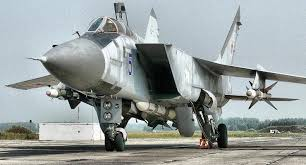fighter: (11, 2, 305, 148)
